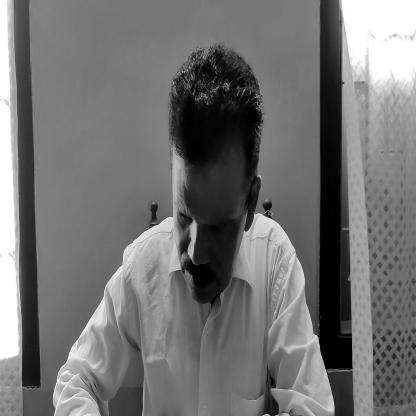Distracted: (164, 48, 262, 312)
